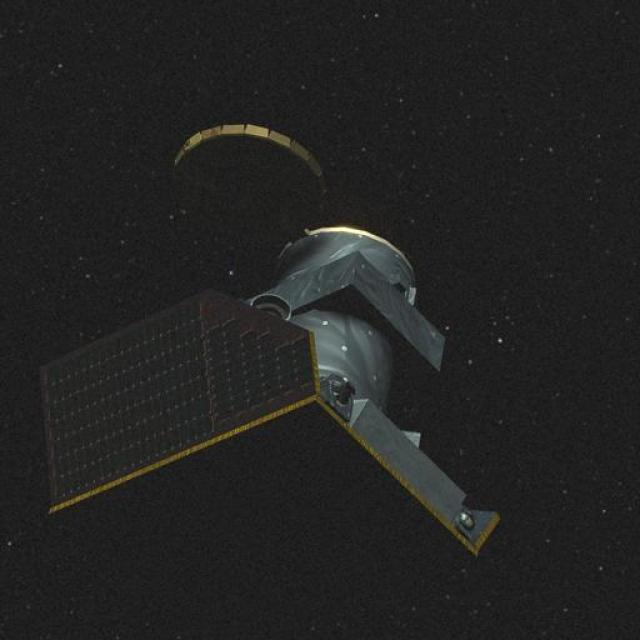cheops: (34, 123, 512, 567)
